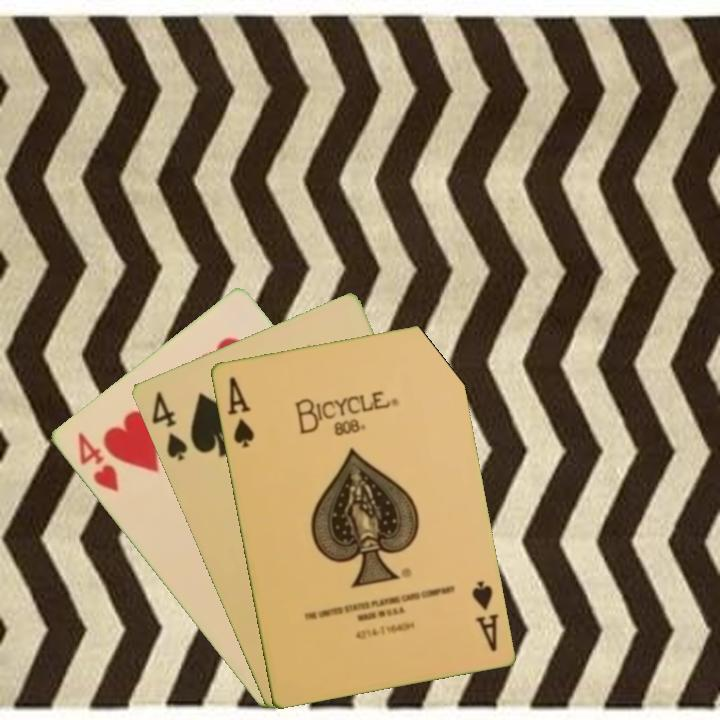4h: (73, 428, 121, 495)
4s: (147, 387, 190, 464)
As: (223, 373, 257, 450), (468, 576, 501, 654)
